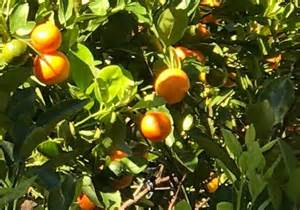orange: (152, 65, 192, 106), (29, 50, 72, 86), (137, 110, 174, 142), (29, 24, 63, 54)
